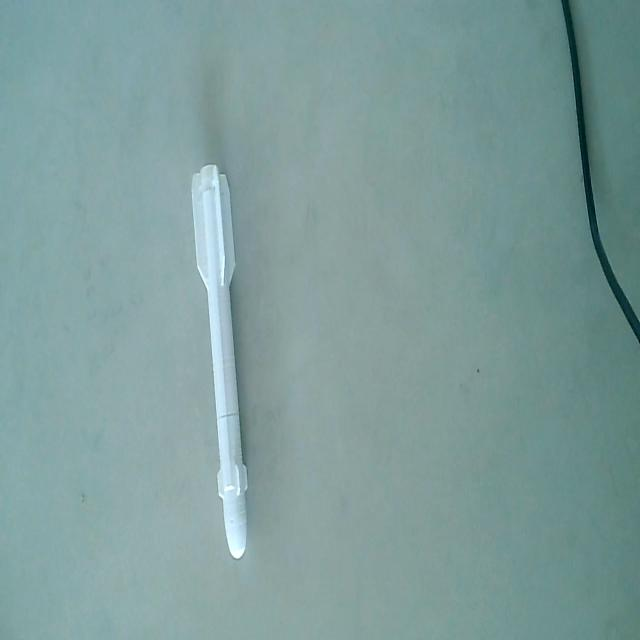Rocket: (190, 159, 254, 567)
